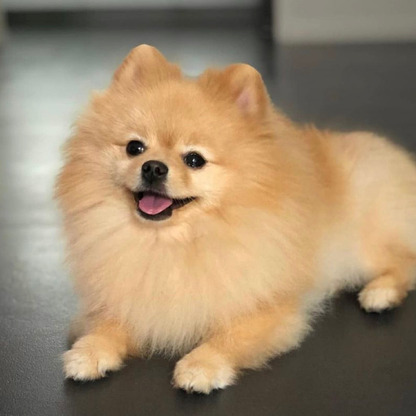Pomeranian: (64, 61, 353, 383)
